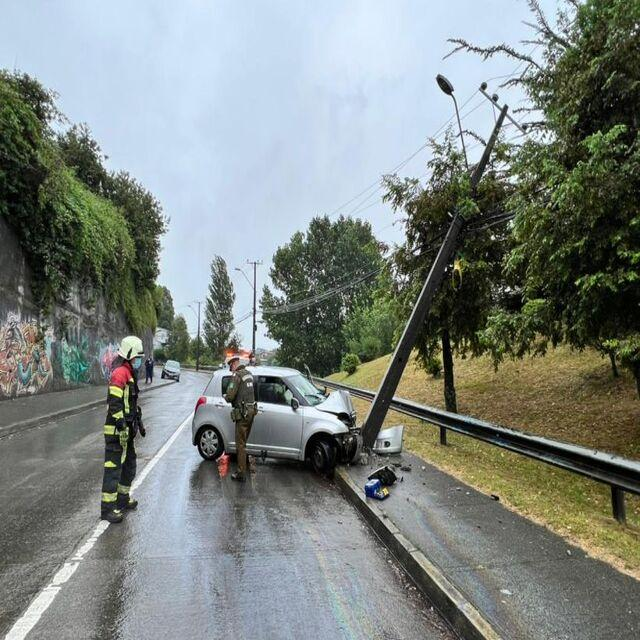Inclined Pole: (358, 69, 543, 443)
